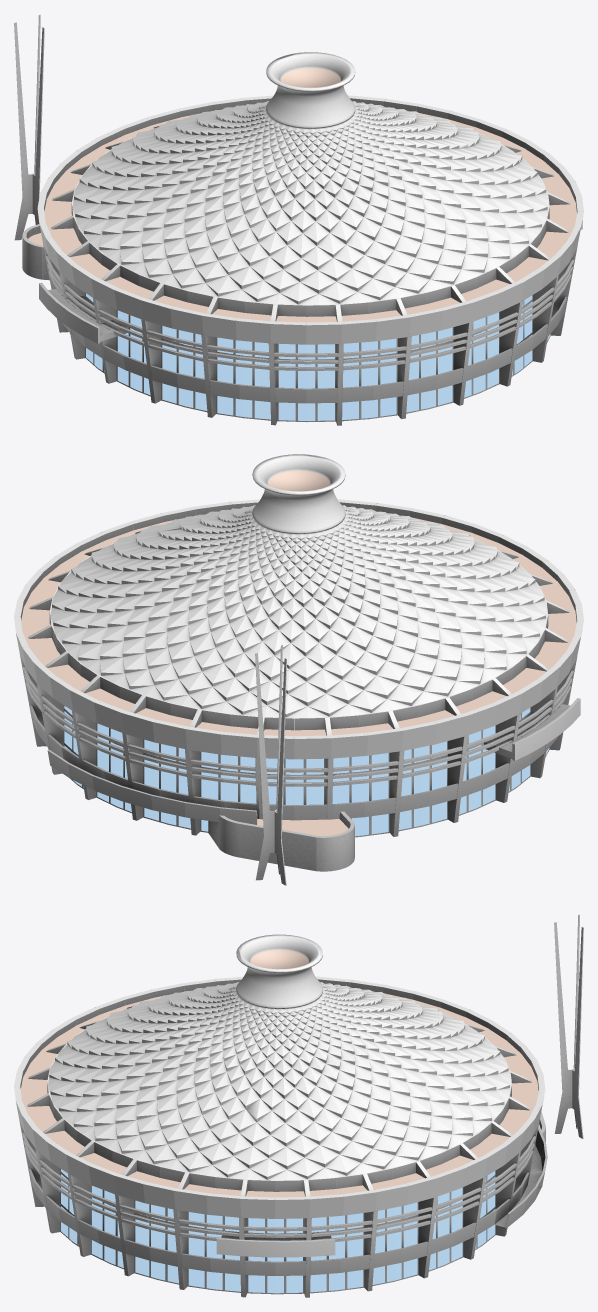
File: circus4.glb
The picture shows the model from 3 angles, top to bottom: view 1: azimuth 30°, elevation 25°; view 2: azimuth 150°, elevation 25°; view 3: azimuth 270°, elevation 25°; orthographic projection. The views are drawn at different scales.
Parts seen in each view (by area): view 1: 164551, 168676, 168677, 168678, 168675, Компонент#1.009, 168679, Компонент#1.031, 168674, Компонент#1.030, Компонент#1.010, 168680 (+47 smaller); view 2: 164551, 154982, 168665, 168666, Компонент#1.017, 168699, 168667, 168698, 154913, Компонент#1.016, 168668, Компонент#5.005 (+47 smaller); view 3: 164551, 168689, 168688, 168690, 168687, Компонент#1.023, Компонент#1.001, 168691, 168686, Компонент#1, 168692, 168685 (+48 smaller).
Part boxes in pixels (<box>): 164551: <box>266,52,355,128</box>; 168676: <box>258,128,318,304</box>; 168677: <box>299,128,357,305</box>; 168678: <box>316,127,394,303</box>; 168675: <box>218,127,303,302</box>; Компонент#1.009: <box>368,298,410,418</box>; 168679: <box>324,126,429,300</box>; Компонент#1.031: <box>202,296,245,418</box>; 168674: <box>182,126,295,296</box>; Компонент#1.030: <box>270,304,306,425</box>; Компонент#1.010: <box>306,304,341,425</box>; 168680: <box>332,124,461,293</box>; 164551: <box>252,454,345,533</box>; 154982: <box>208,811,354,871</box>; 168665: <box>286,533,347,718</box>; 168666: <box>305,533,386,716</box>; Компонент#1.017: <box>359,711,403,836</box>; 168699: <box>202,533,291,714</box>; 168667: <box>313,531,423,712</box>; 168698: <box>164,531,282,709</box>; 154913: <box>244,533,307,717</box>; Компонент#1.016: <box>419,697,468,826</box>; 168668: <box>321,529,455,705</box>; Компонент#5.005: <box>184,709,230,835</box>; 164551: <box>236,934,322,1008</box>; 168689: <box>268,1008,324,1180</box>; 168688: <box>228,1008,286,1179</box>; 168690: <box>285,1008,360,1179</box>; 168687: <box>190,1008,272,1177</box>; Компонент#1.023: <box>174,1172,215,1290</box>; Компонент#1.001: <box>336,1174,377,1291</box>; 168691: <box>293,1006,394,1175</box>; 168686: <box>154,1006,264,1172</box>; Компонент#1: <box>392,1161,437,1281</box>; 168692: <box>300,1005,425,1169</box>; 168685: <box>123,1005,257,1164</box>.
Bounding box in the file's own units: 70.72 × 34.08 × 72.91.
12 materials, 7 textured.
